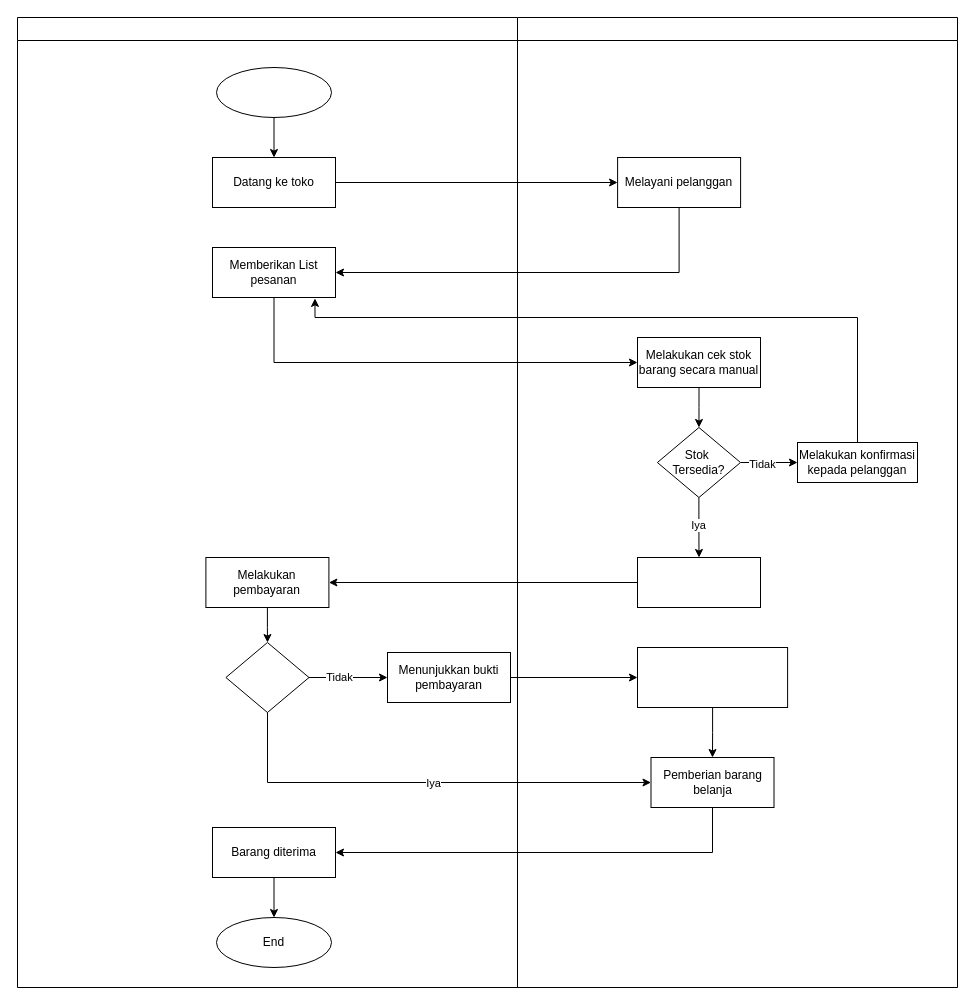
Some shapes in this 975 by 1005 pixel diagram are drawn without their labels. Each missing label, with the box of its shape:
Cash?: (225, 642, 309, 712)
Memberikan konfirmasi pembayaran berhasil: (636, 646, 788, 708)
Pelanggan: (16, 16, 518, 988)
Pemilik Toko: (516, 16, 958, 988)
Pesananan di catat dalam nota: (636, 556, 760, 608)
Start: (216, 66, 332, 118)
